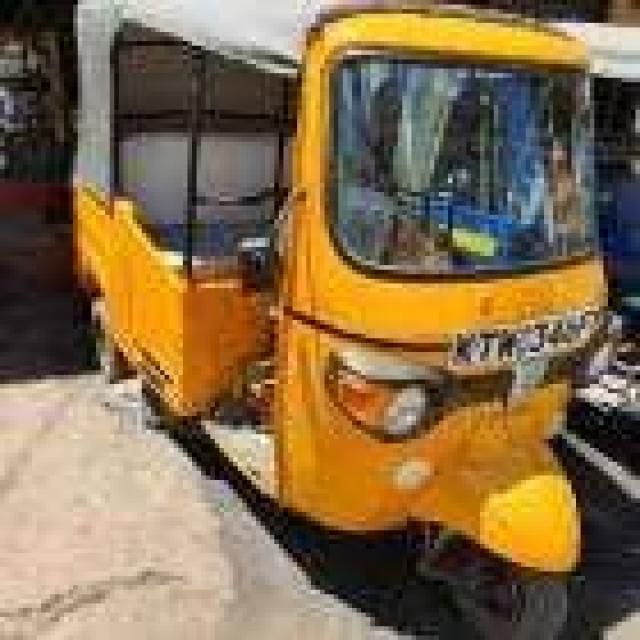tuktuk: (64, 0, 637, 640)
